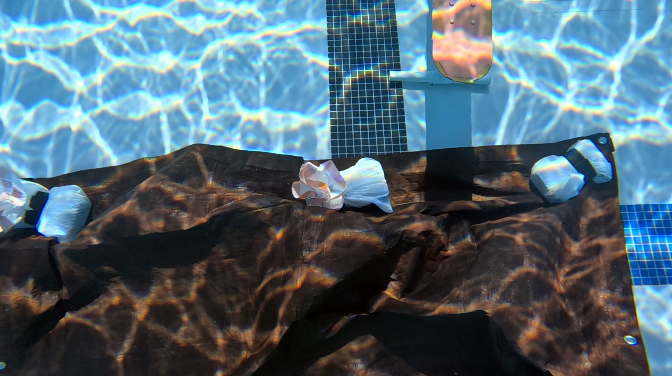pathmarker: (430, 0, 492, 83)
sandbag: (0, 133, 649, 374)
